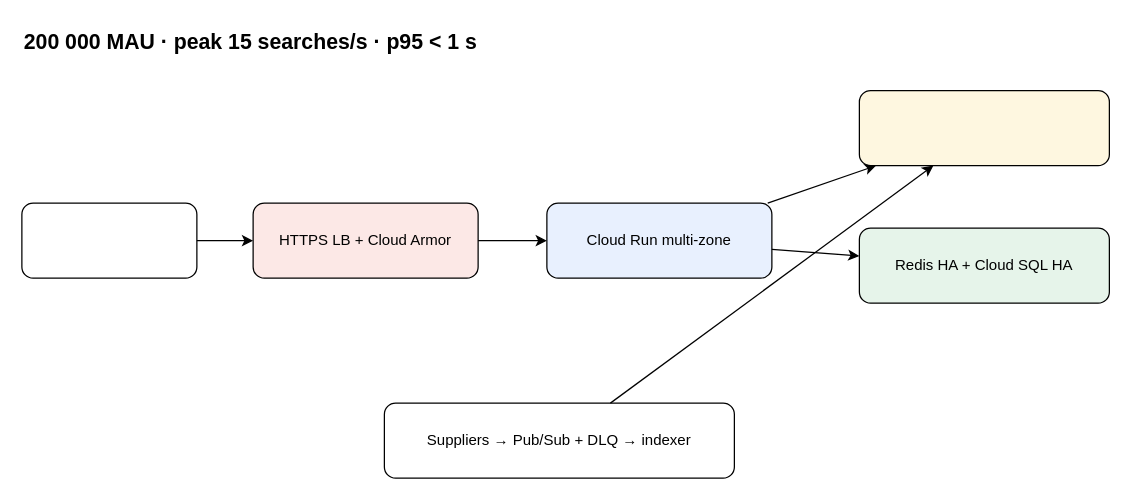
Some shapes in this 1131 by 500 pixel diagram are drawn without their labels. The centre of each missing label's shape, as x and y in pixels:
"Elastic Cloud multi-zone" goes at point 983,127.
"Пользователь" goes at point 109,240.
